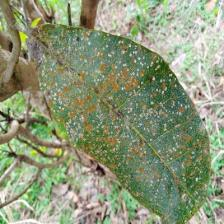red rust: (24, 23, 212, 224)
